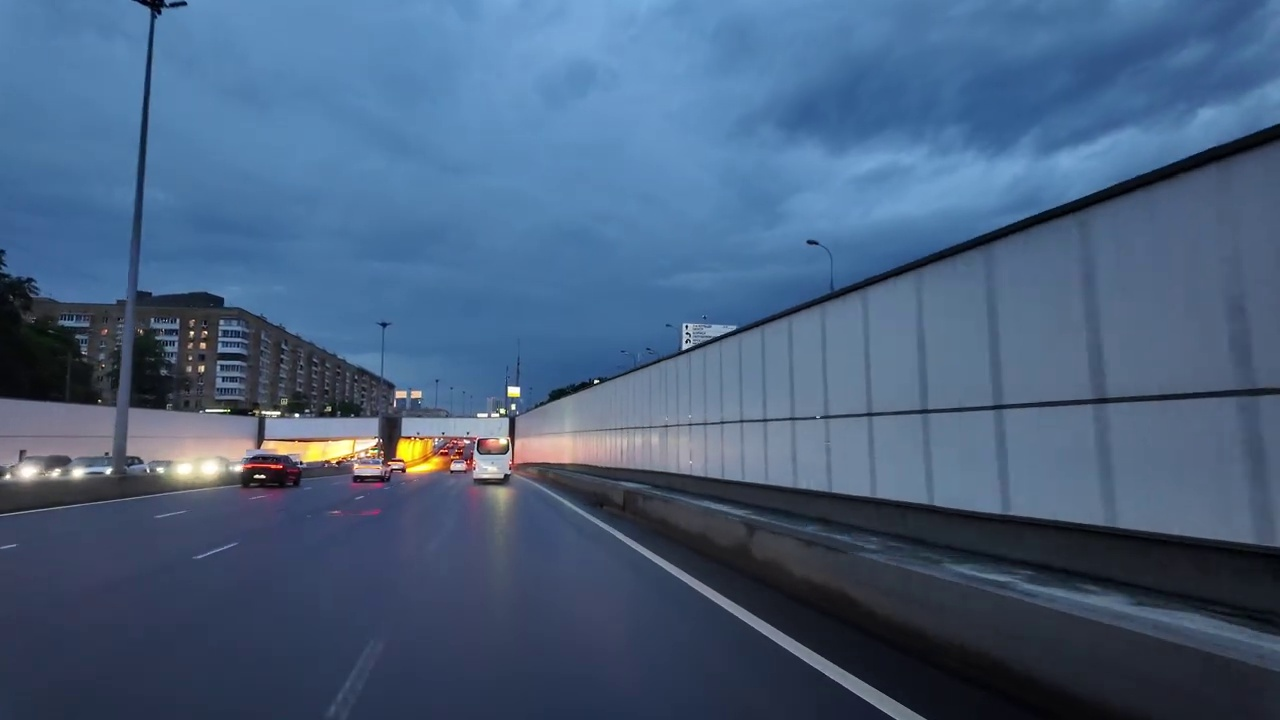apagada: (800, 233, 826, 254)
